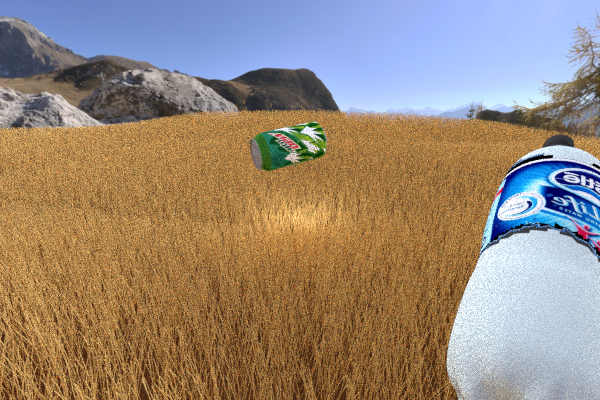bottle: (446, 134, 600, 400)
can: (249, 121, 327, 171), (324, 120, 362, 144)
